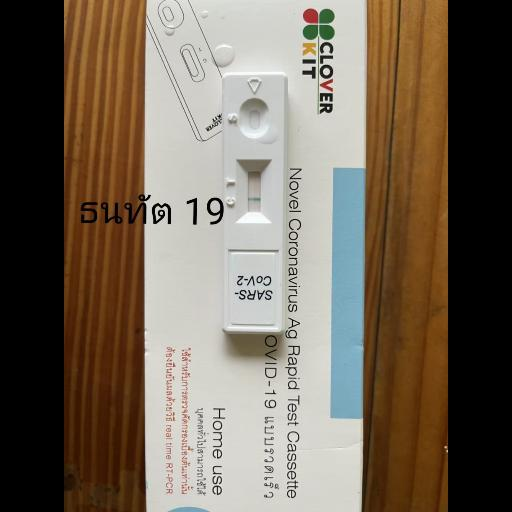Neg: (226, 73, 282, 331)
